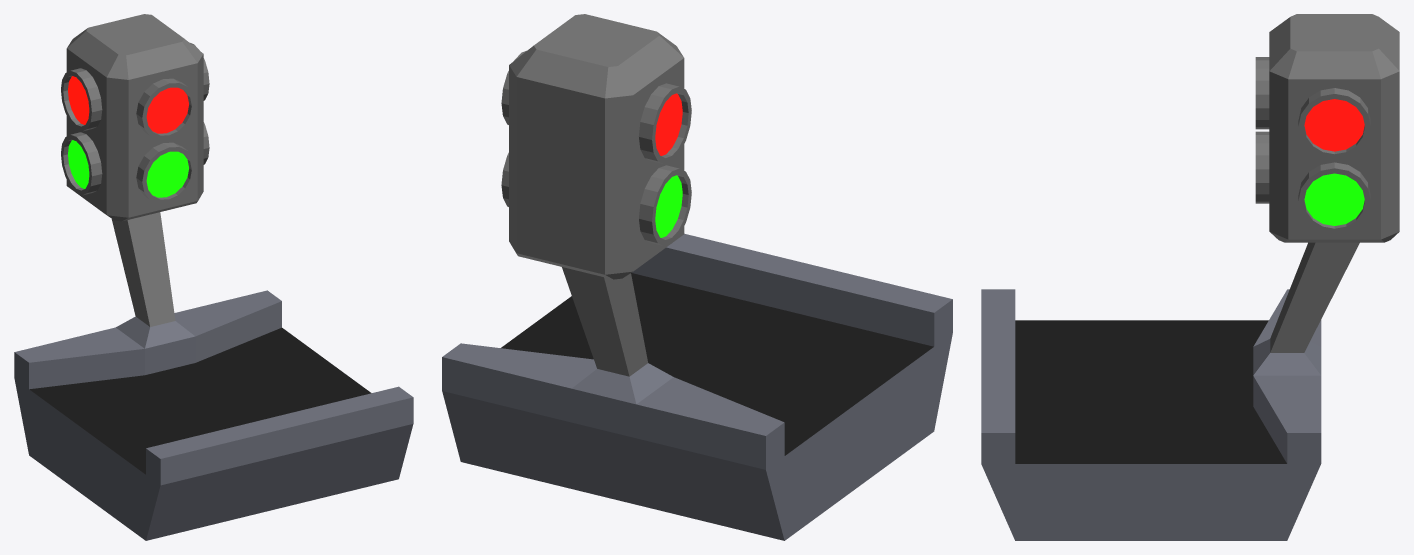
File: traffic_light.glb
The picture shows the model from 3 angles, left to right: view 1: azimuth 30°, elevation 25°; view 2: azimuth 150°, elevation 25°; view 3: azimuth 270°, elevation 25°; orthographic projection. The views are drawn at different scales.
Visible parts, largest first — view 1: TrafficLightPlatform, TrafficLightMain; view 2: TrafficLightPlatform, TrafficLightMain; view 3: TrafficLightPlatform, TrafficLightMain.
Part boxes in pixels (x1,y1,x2,y2): TrafficLightPlatform: (14,290,413,540); TrafficLightMain: (61,14,209,348); TrafficLightPlatform: (442,233,952,540); TrafficLightMain: (501,14,691,404); TrafficLightPlatform: (981,289,1321,540); TrafficLightMain: (1253,14,1399,375).
Bounding box in the file's own units: 2 × 2.83 × 2.46.
